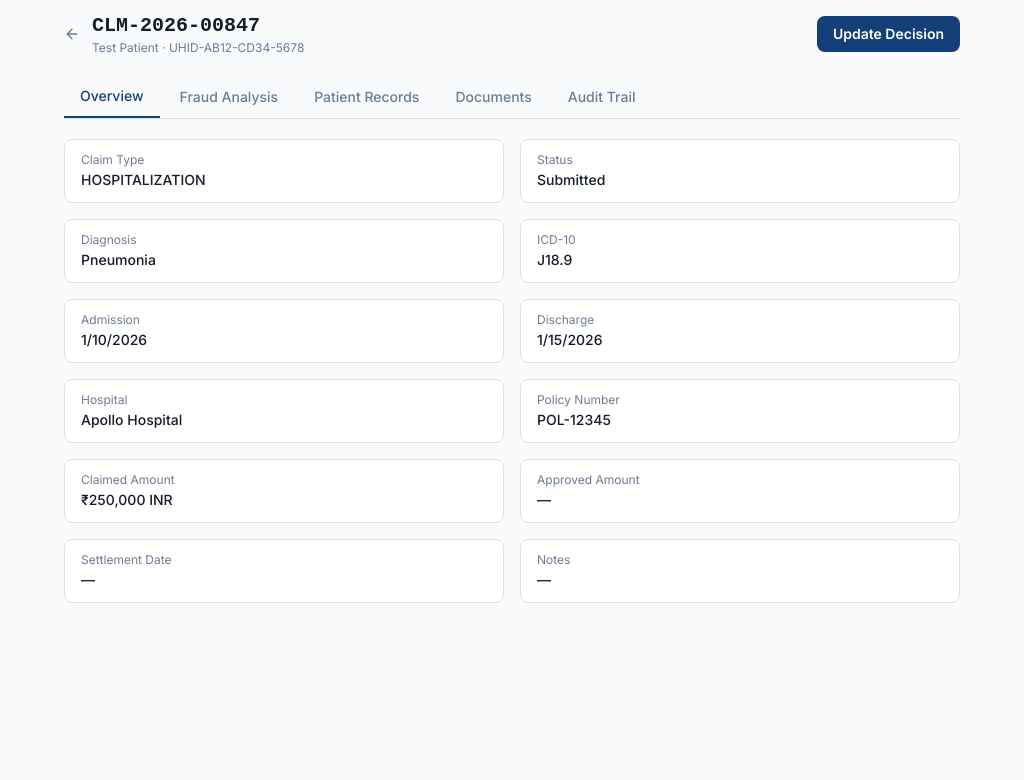
Scenario: ClaimDetailPage › audit tab shows empty state when no audit logs
Click the button with test id "tab-audit": (602, 97) [552, 76, 652, 118]
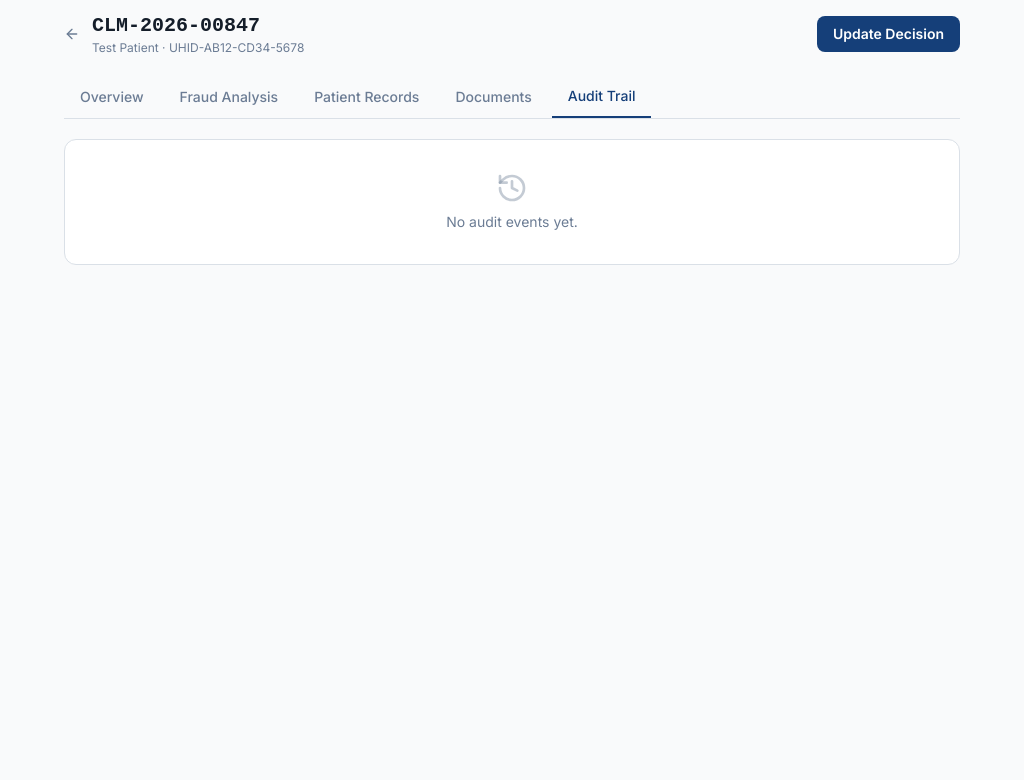
Result: the element with test id "tab-audit-content" is shown at [64, 139, 960, 265]
